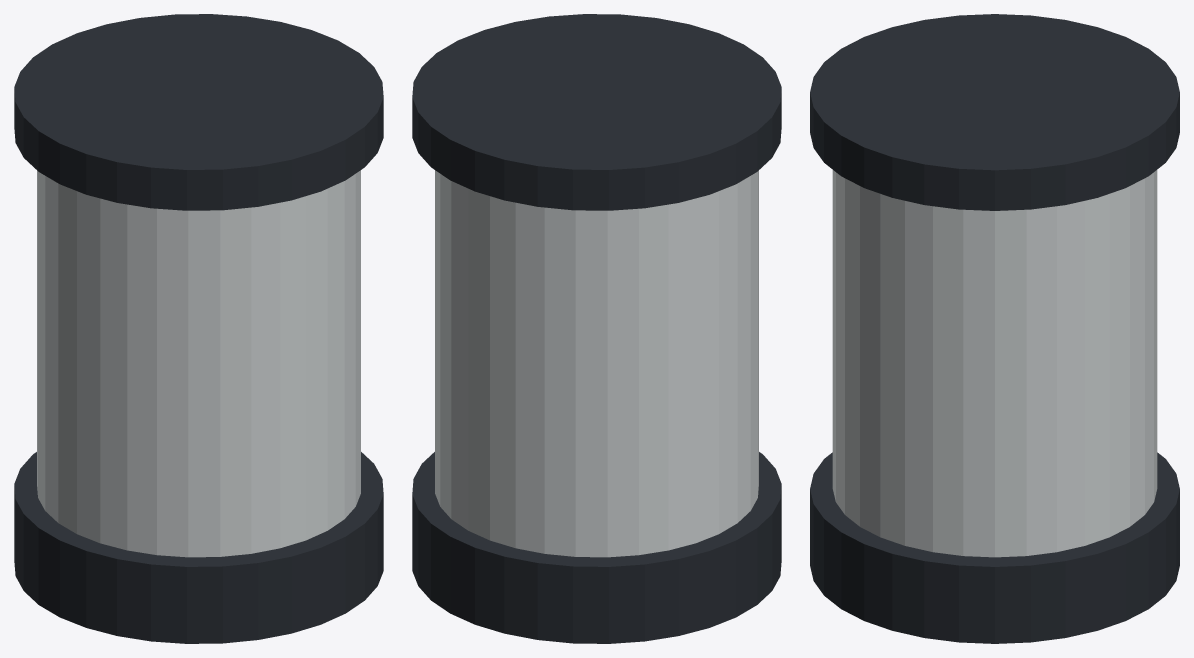
3 renders of one model, left to right at view 1: azimuth 30°, elevation 25°; view 2: azimuth 150°, elevation 25°; view 3: azimuth 270°, elevation 25°, orthographic.
Visible parts, largest first — view 1: Cylinder.000, Cylinder.002; view 2: Cylinder.000, Cylinder.002; view 3: Cylinder.000, Cylinder.002.
Part boxes in pixels (left/top/right/bottom): Cylinder.000: left=37, top=170, right=360, bottom=557; Cylinder.002: left=14, top=14, right=383, bottom=643; Cylinder.000: left=435, top=170, right=758, bottom=557; Cylinder.002: left=412, top=14, right=781, bottom=643; Cylinder.000: left=832, top=170, right=1157, bottom=557; Cylinder.002: left=810, top=14, right=1179, bottom=643.
Bounding box in the file's own units: 2 × 2.83 × 2.
2 materials, 2 textured.
